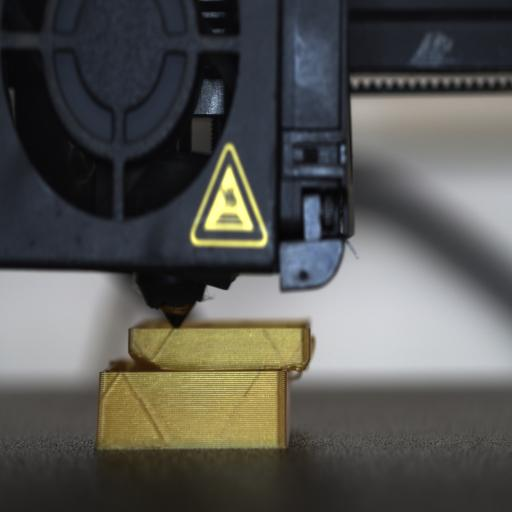layer_shift: (97, 355, 311, 379)
